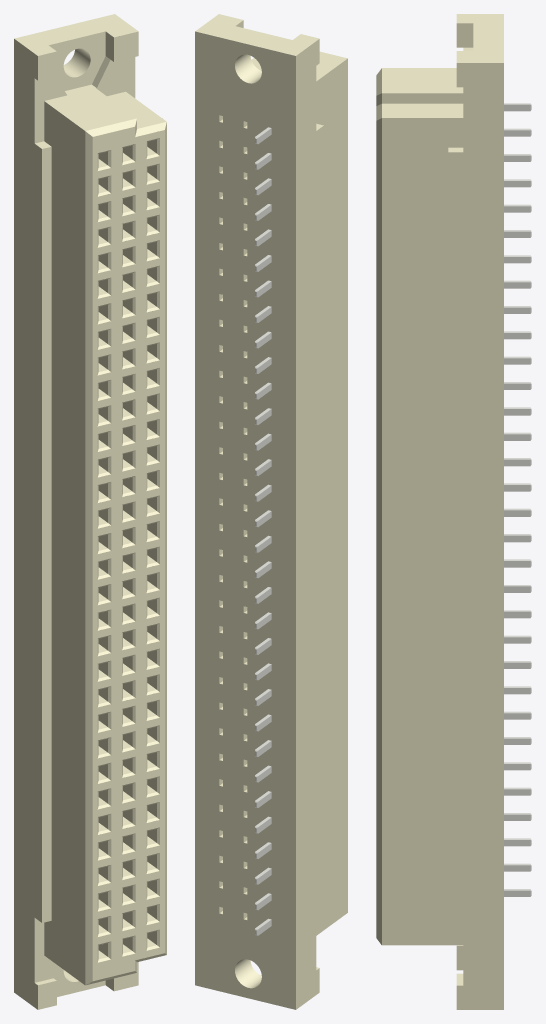
The model's file is DIN41612_C_1x32_Female_Vertical_THT.glb.
3 renders of one model, left to right at view 1: azimuth 30°, elevation 25°; view 2: azimuth 150°, elevation 25°; view 3: azimuth 270°, elevation 25°, orthographic.
Visible parts, largest first — view 1: Shape_IndexedFaceSet, Shape_IndexedFaceSet.400, Shape_IndexedFaceSet.900, Shape_IndexedFaceSet.799, Shape_IndexedFaceSet.008, Shape_IndexedFaceSet.398, Shape_IndexedFaceSet.903, Shape_IndexedFaceSet.792, Shape_IndexedFaceSet.001, Shape_IndexedFaceSet.785, Shape_IndexedFaceSet.790, Shape_IndexedFaceSet.795 (+7 smaller); view 2: Shape_IndexedFaceSet.1297, Shape_IndexedFaceSet.900, Shape_IndexedFaceSet.400, Shape_IndexedFaceSet.903, Shape_IndexedFaceSet.905, Shape_IndexedFaceSet.910, Shape_IndexedFaceSet.398; view 3: Shape_IndexedFaceSet.393, Shape_IndexedFaceSet.898, Shape_IndexedFaceSet.001, Shape_IndexedFaceSet.398, Shape_IndexedFaceSet.903, Shape_IndexedFaceSet.394, Shape_IndexedFaceSet.396, Shape_IndexedFaceSet.902.
Part boxes in pixels (left/top/right/bottom): Shape_IndexedFaceSet: left=92, top=126, right=164, bottom=981; Shape_IndexedFaceSet.400: left=44, top=101, right=85, bottom=984; Shape_IndexedFaceSet.900: left=14, top=39, right=41, bottom=1009; Shape_IndexedFaceSet.799: left=42, top=147, right=51, bottom=922; Shape_IndexedFaceSet.008: left=85, top=131, right=92, bottom=985; Shape_IndexedFaceSet.398: left=44, top=84, right=136, bottom=130; Shape_IndexedFaceSet.903: left=14, top=14, right=138, bottom=55; Shape_IndexedFaceSet.792: left=49, top=31, right=105, bottom=90; Shape_IndexedFaceSet.001: left=165, top=122, right=166, bottom=954; Shape_IndexedFaceSet.785: left=96, top=57, right=135, bottom=97; Shape_IndexedFaceSet.790: left=34, top=76, right=66, bottom=143; Shape_IndexedFaceSet.795: left=34, top=918, right=58, bottom=982; Shape_IndexedFaceSet.1297: left=195, top=31, right=295, bottom=1009; Shape_IndexedFaceSet.900: left=296, top=39, right=323, bottom=1009; Shape_IndexedFaceSet.400: left=316, top=58, right=347, bottom=935; Shape_IndexedFaceSet.903: left=195, top=14, right=319, bottom=55; Shape_IndexedFaceSet.905: left=235, top=54, right=261, bottom=83; Shape_IndexedFaceSet.910: left=235, top=959, right=261, bottom=988; Shape_IndexedFaceSet.398: left=316, top=51, right=347, bottom=81; Shape_IndexedFaceSet.393: left=382, top=118, right=463, bottom=945; Shape_IndexedFaceSet.898: left=448, top=63, right=503, bottom=1009; Shape_IndexedFaceSet.001: left=376, top=118, right=381, bottom=944; Shape_IndexedFaceSet.398: left=382, top=68, right=463, bottom=93; Shape_IndexedFaceSet.903: left=456, top=14, right=503, bottom=62; Shape_IndexedFaceSet.394: left=382, top=103, right=463, bottom=117; Shape_IndexedFaceSet.396: left=382, top=93, right=463, bottom=103; Shape_IndexedFaceSet.902: left=456, top=23, right=473, bottom=47.
Bounding box in the file's own units: 4.13 × 37.36 × 5.55.
